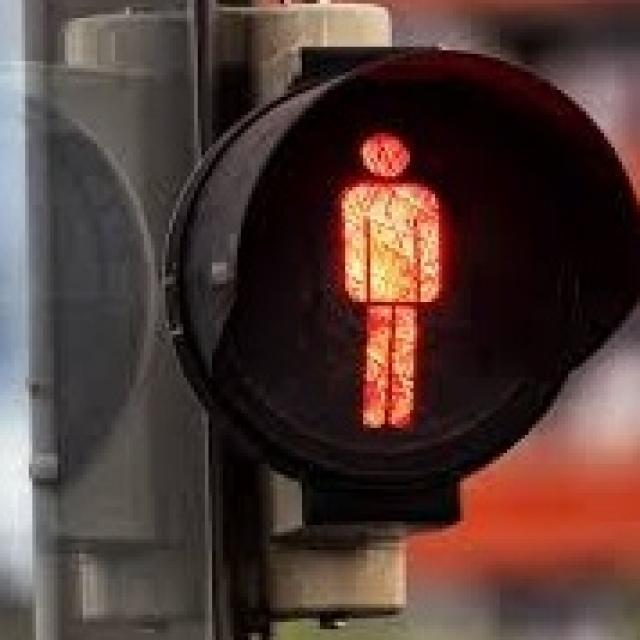red-crossing: (298, 101, 486, 446)
